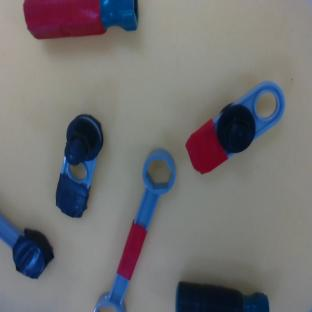part_1_bad: (52, 111, 107, 220)
part_1_good: (177, 71, 296, 182)
part_2_bad: (176, 281, 269, 311)
part_2_good: (23, 0, 138, 39)
part_3_bad: (0, 213, 61, 283)
part_3_good: (90, 144, 184, 312)
